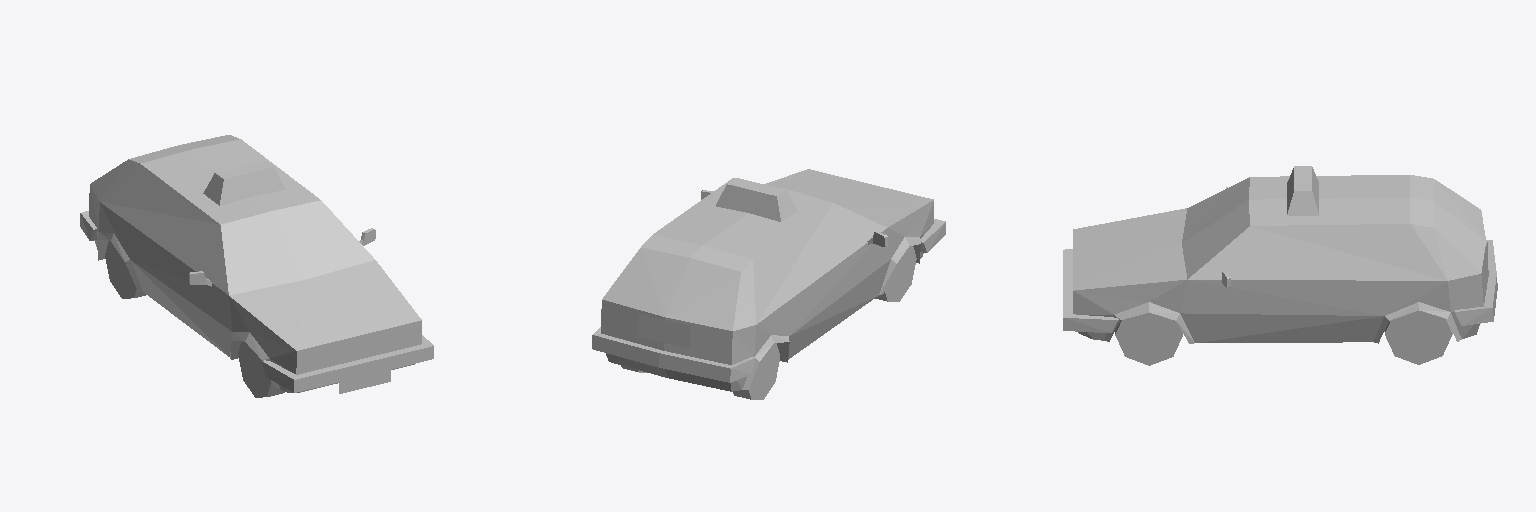
The model's file is funcar_taxi.obj.
3 renders of one model, left to right at view 1: azimuth 30°, elevation 25°; view 2: azimuth 150°, elevation 25°; view 3: azimuth 270°, elevation 25°, orthographic.
Visible parts, largest first — view 1: Car_Main_Cube, TaxiSign_Cube.001, Wheel.003_Cube.005, License_Plate_Front_Cube.008, Wheel_Cube.007; view 2: Car_Main_Cube, TaxiSign_Cube.001, License_Plate_Back_Cube.010, Wheel_Cube.007, Wheel.003_Cube.005; view 3: Car_Main_Cube, Wheel.002_Cube.006, Wheel.001_Cube.002, TaxiSign_Cube.001.
Part boxes in pixels (x1,y1,x2,y2): Car_Main_Cube: (80, 135, 433, 392); TaxiSign_Cube.001: (203, 161, 285, 205); Wheel.003_Cube.005: (238, 341, 284, 397); License_Plate_Front_Cube.008: (339, 360, 390, 393); Wheel_Cube.007: (105, 241, 145, 298); Car_Main_Cube: (592, 169, 945, 391); TaxiSign_Cube.001: (716, 178, 797, 221); License_Plate_Back_Cube.010: (638, 314, 690, 348); Wheel_Cube.007: (733, 343, 779, 399); Wheel.003_Cube.005: (875, 246, 916, 301); Car_Main_Cube: (1063, 175, 1497, 343); Wheel.002_Cube.006: (1385, 310, 1452, 364); Wheel.001_Cube.002: (1115, 313, 1182, 365); TaxiSign_Cube.001: (1287, 166, 1318, 216).
Bounding box in the file's own units: 1.95 × 1.55 × 3.95.